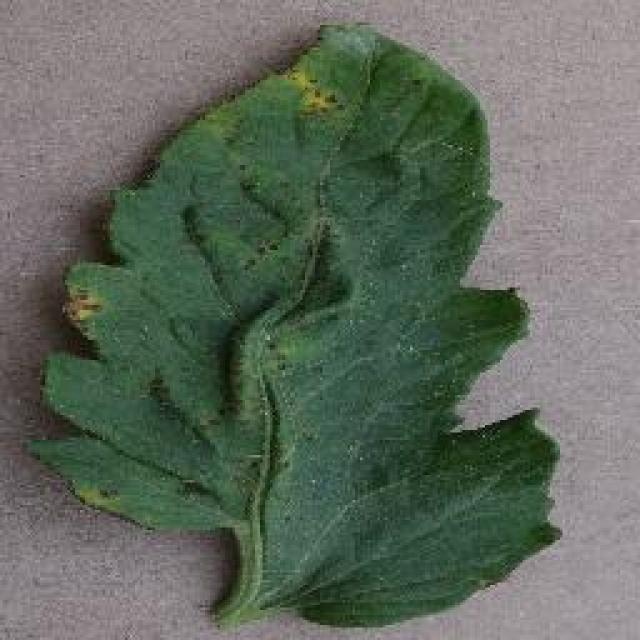Tomato bacterial spot leaf: (49, 22, 561, 622)
